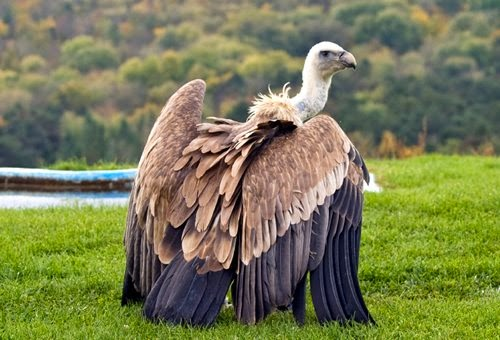Pengoyak Daging: (340, 47, 361, 74)
